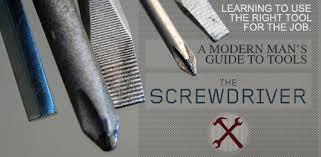screwdriver: (82, 0, 146, 102), (65, 74, 119, 150), (157, 23, 198, 76), (176, 0, 229, 41)
